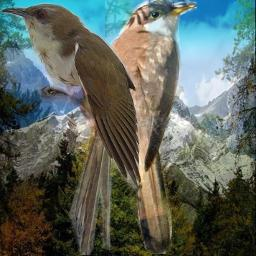Cuckoo: (0, 1, 139, 255), (105, 0, 197, 254)
